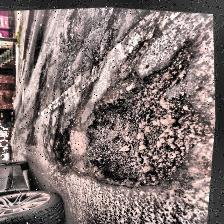pothole: (38, 33, 222, 204)
